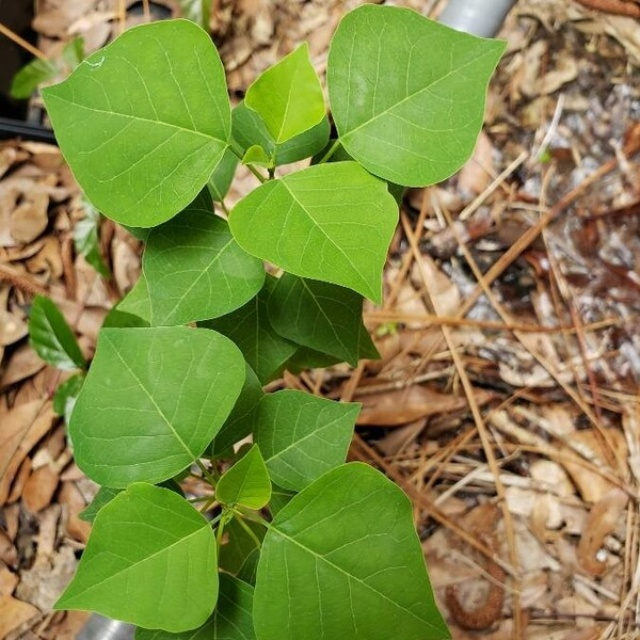obstacle: (49, 25, 477, 623)
